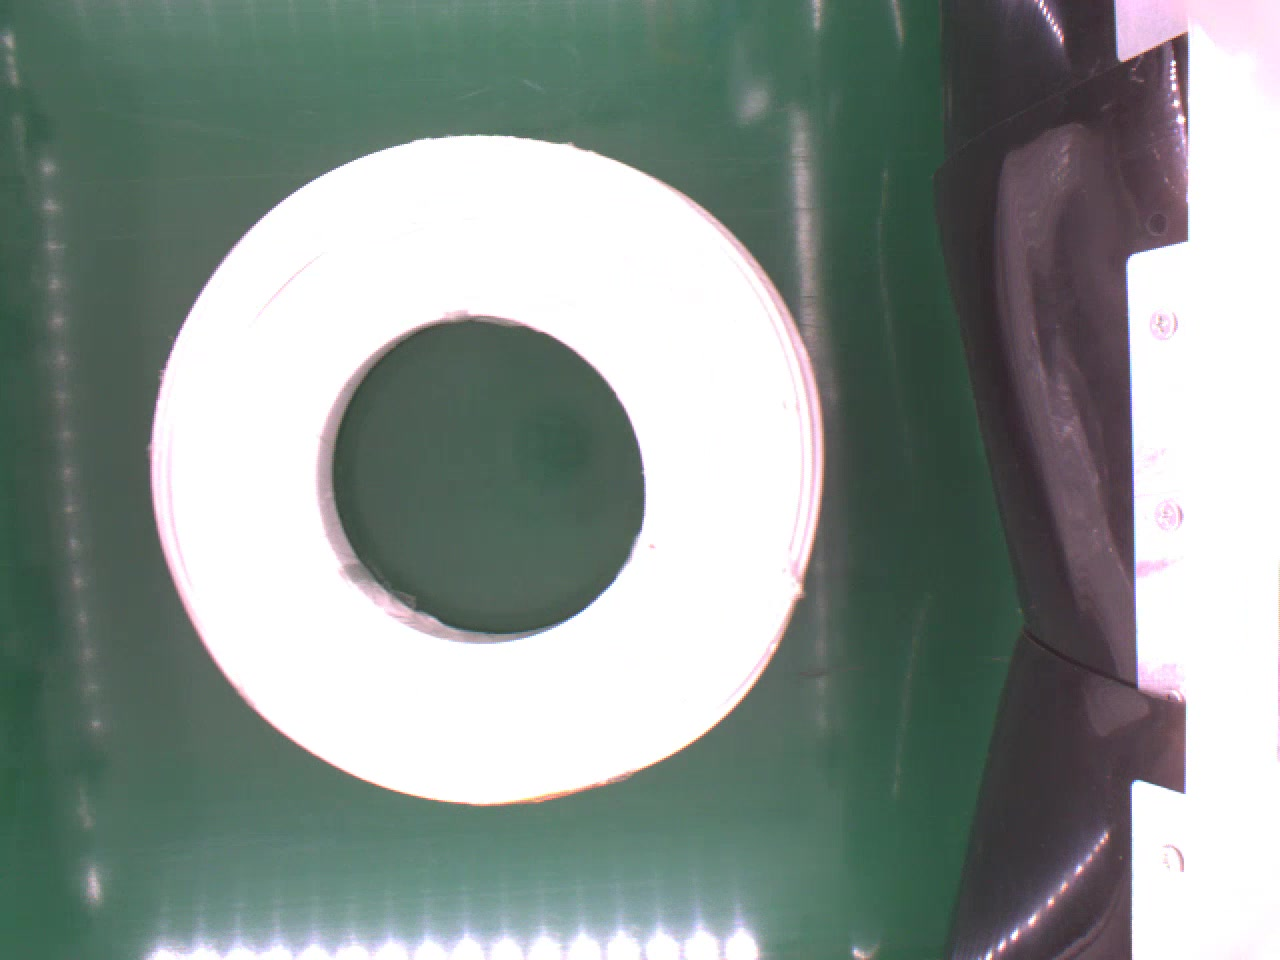white: (138, 130, 830, 808)
